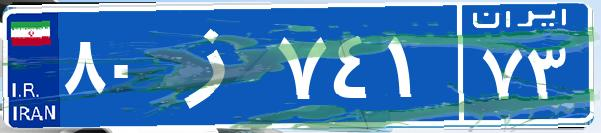0: (110, 28, 158, 105)
1: (385, 28, 445, 110)
3: (525, 38, 570, 115)
4: (330, 28, 385, 110)
7: (273, 28, 330, 110), (475, 38, 525, 113)
8: (57, 26, 110, 107)
ز: (158, 15, 273, 115)
